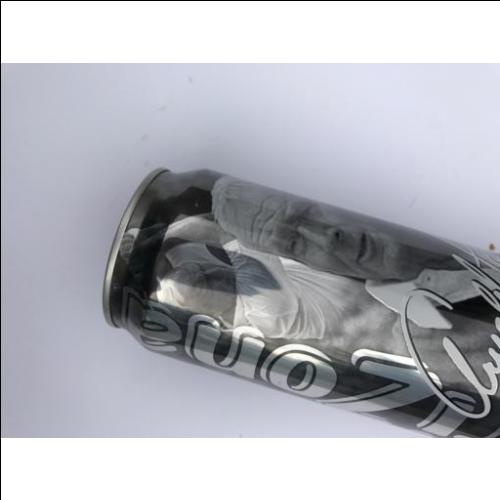metal: (102, 165, 499, 436)
